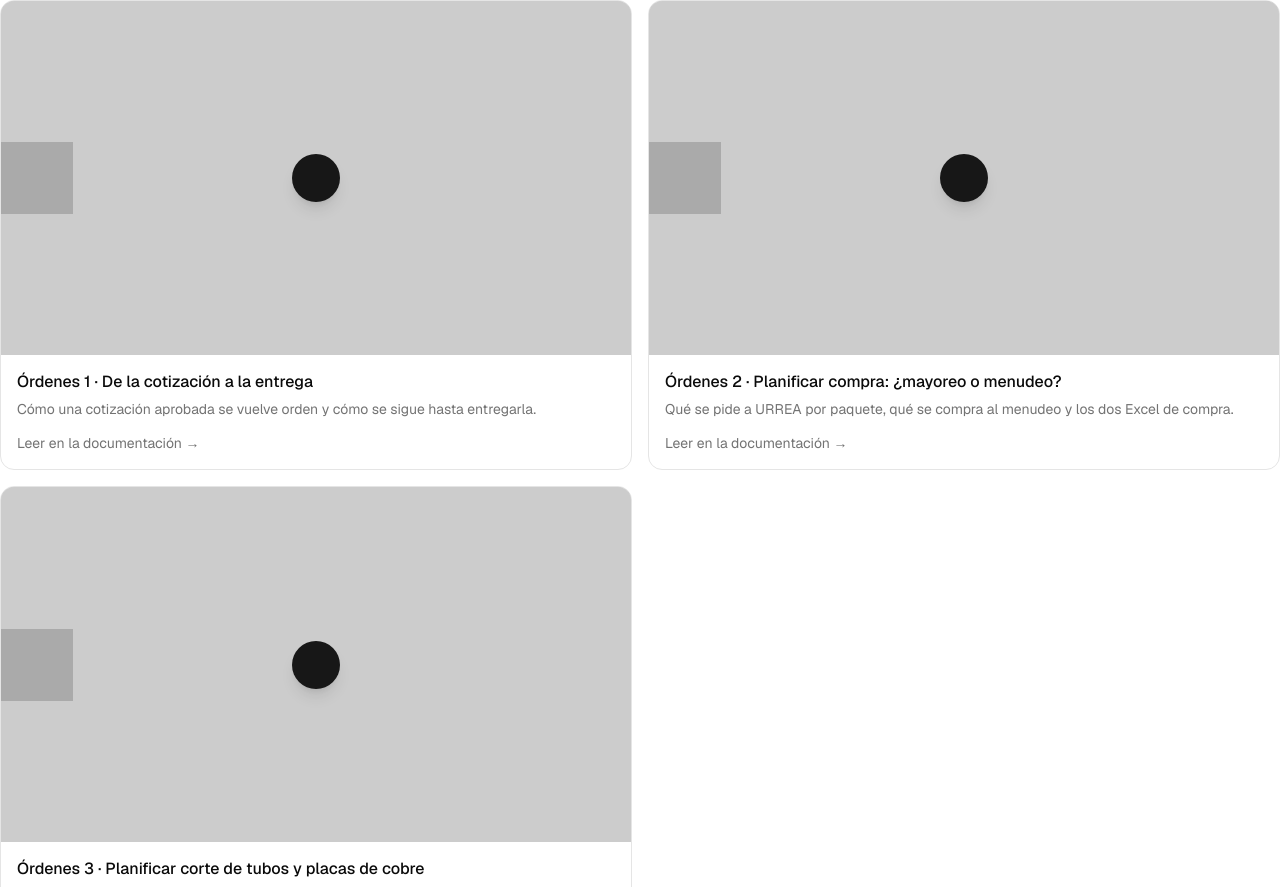
Scenario: pestaña Tutoriales › una tarjeta por video, en orden, con su liga a la documentación y el reproductor al abrirla
Click the 1st button at (316, 178), box [1,1,631,355]
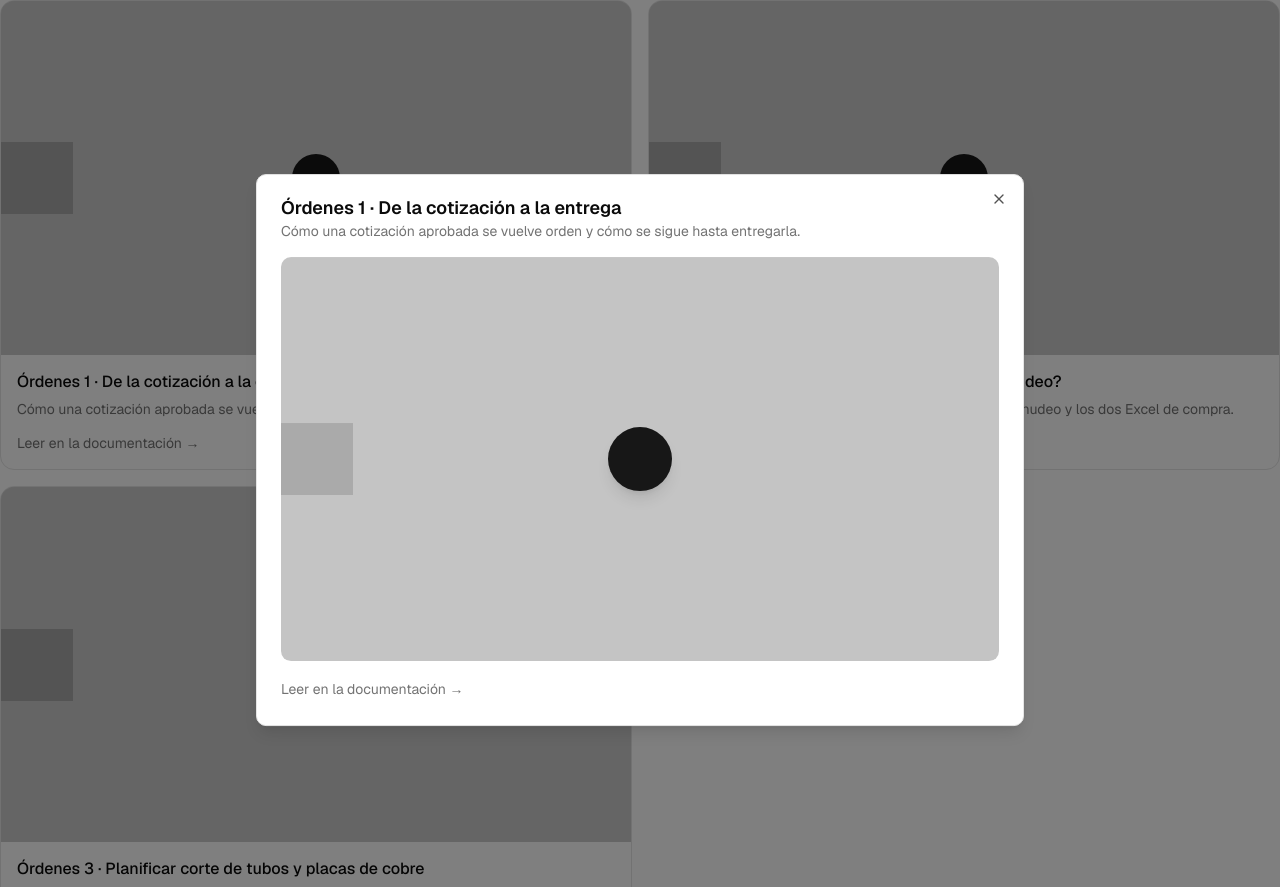
Now the heading "Órdenes 1 · De la cotización a la entrega" is shown, box [281,196,622,219]
